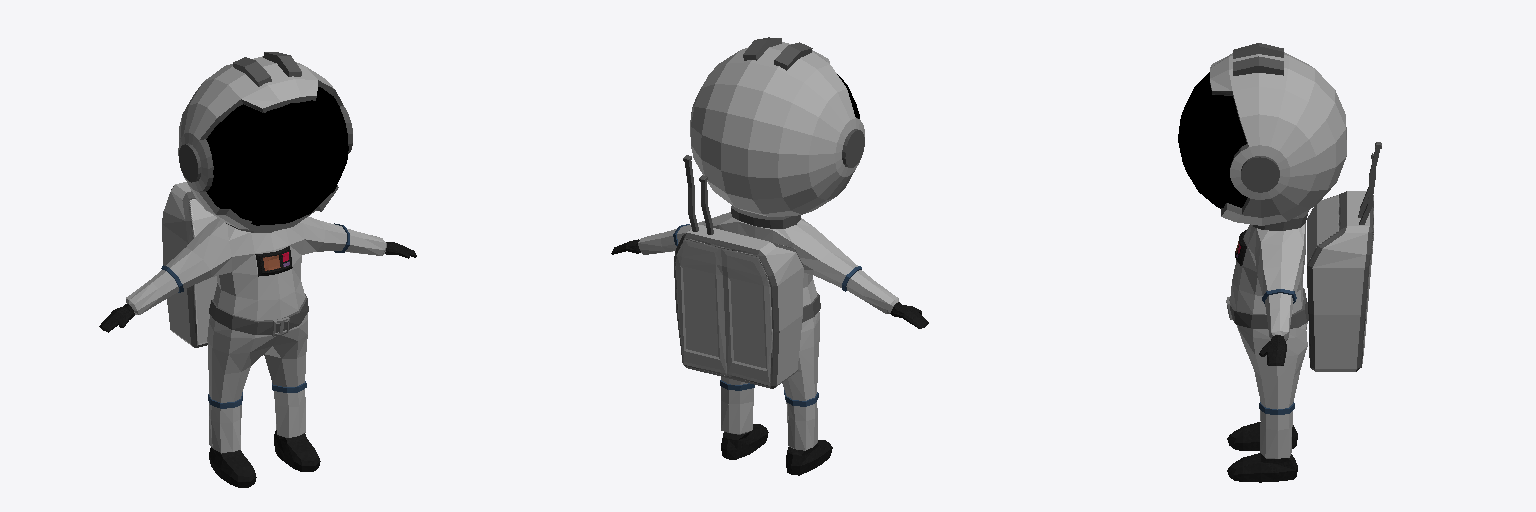
The picture shows the model from 3 angles: view 1: azimuth 30°, elevation 25°; view 2: azimuth 150°, elevation 25°; view 3: azimuth 270°, elevation 25°; orthographic projection.
Parts seen in each view (by area): view 1: char_Cube.001; view 2: char_Cube.001; view 3: char_Cube.001.
Part boxes in pixels (x1,y1,x2,y2): char_Cube.001: (99, 52, 416, 487); char_Cube.001: (611, 37, 928, 475); char_Cube.001: (1178, 43, 1381, 482).
Bounding box in the file's own units: 3.23 × 4.04 × 1.82.
1 materials, 1 textured.